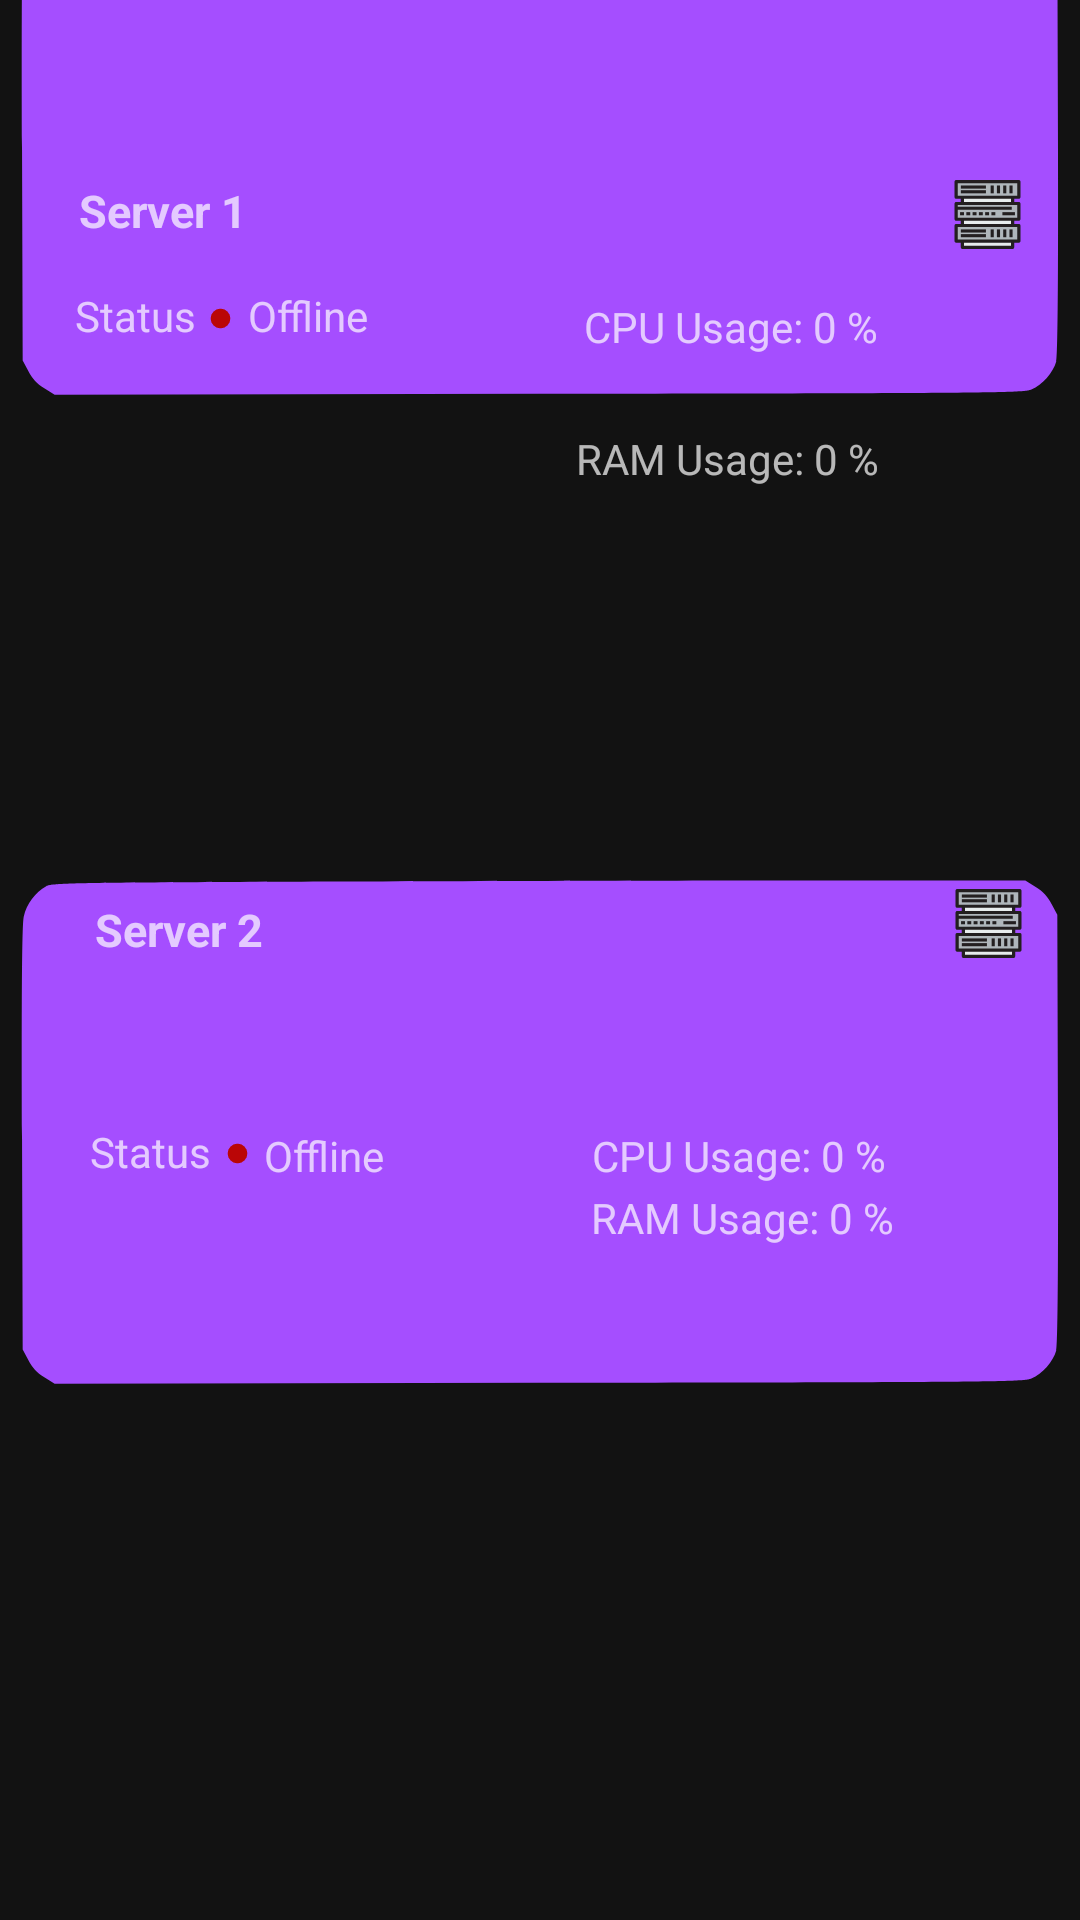

Icons on this 1080 x 1920 Android screen, each with the point to tap as (x=x, y=y):
serv: (x=987, y=214), (x=988, y=923)
